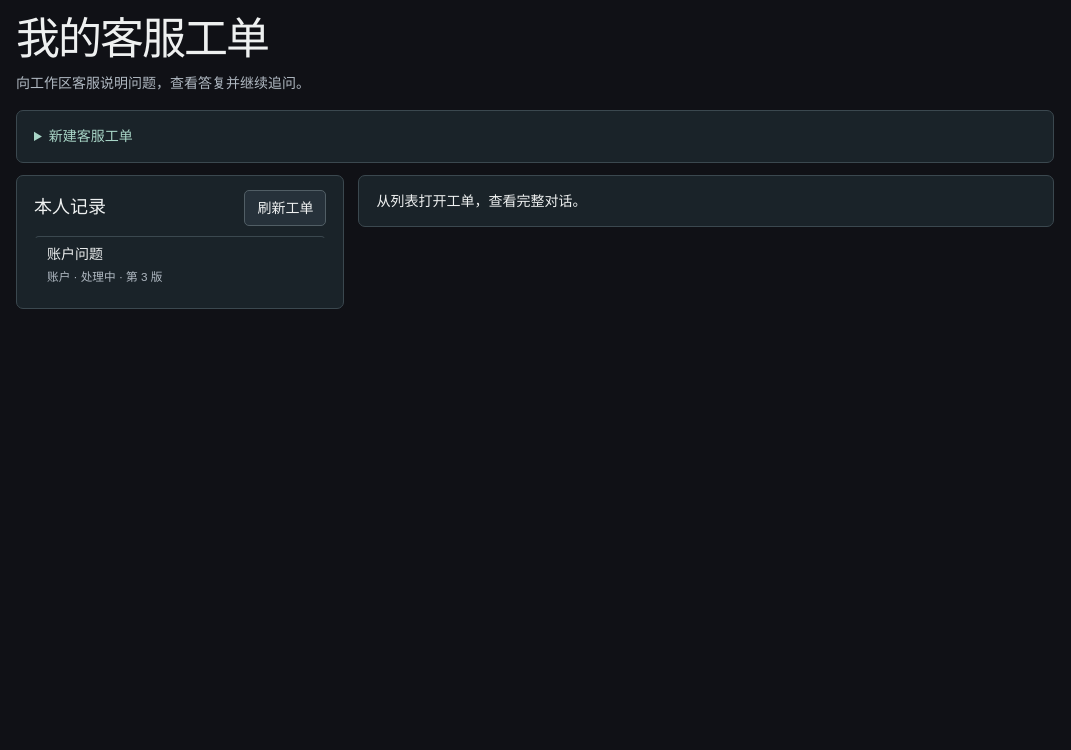
Scenario: requires explicit closure confirmation, allows only owners, and retains the conversation for reading
This screenshot has width=1071, height=750.
Click the button "账户问题 账户 · 处理中 · 第 3 版". click: (75, 254)
box: [34,236,326,294]
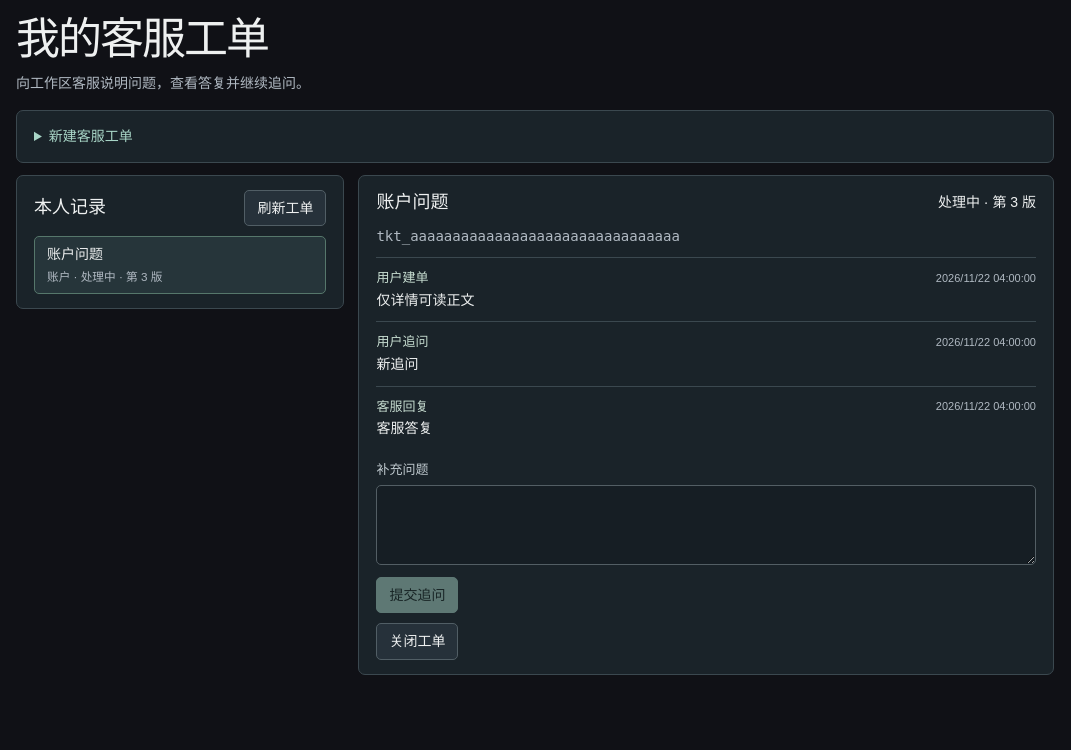
Now the button "关闭工单" is shown
Now the button "关闭工单" is enabled
Click the button "关闭工单". click: (417, 642)
box: [376,623,458,660]
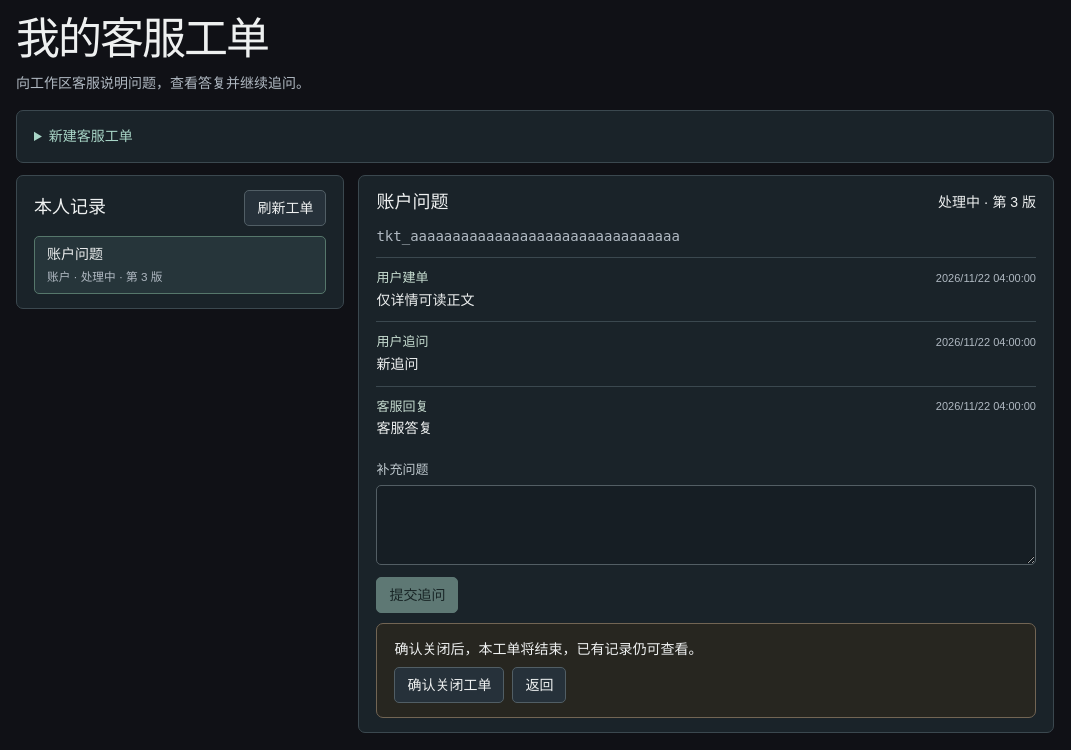
Now the button "确认关闭工单" is shown
Now the button "确认关闭工单" is enabled
Click the button "确认关闭工单". click: (449, 685)
box: [394,667,504,703]
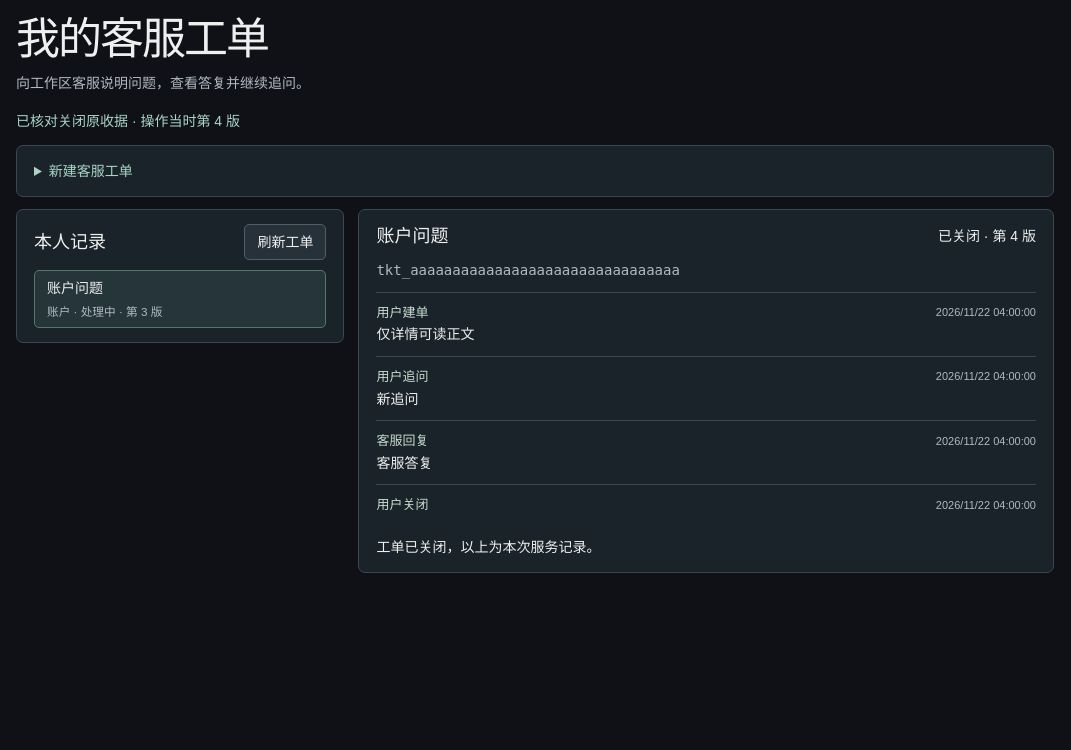
Now the text box named "用户追问" is gone
